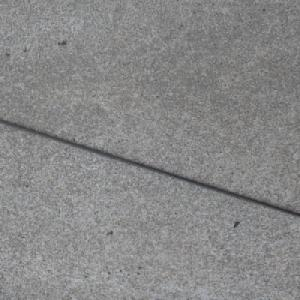LuggagePart: (0, 118, 300, 217)
